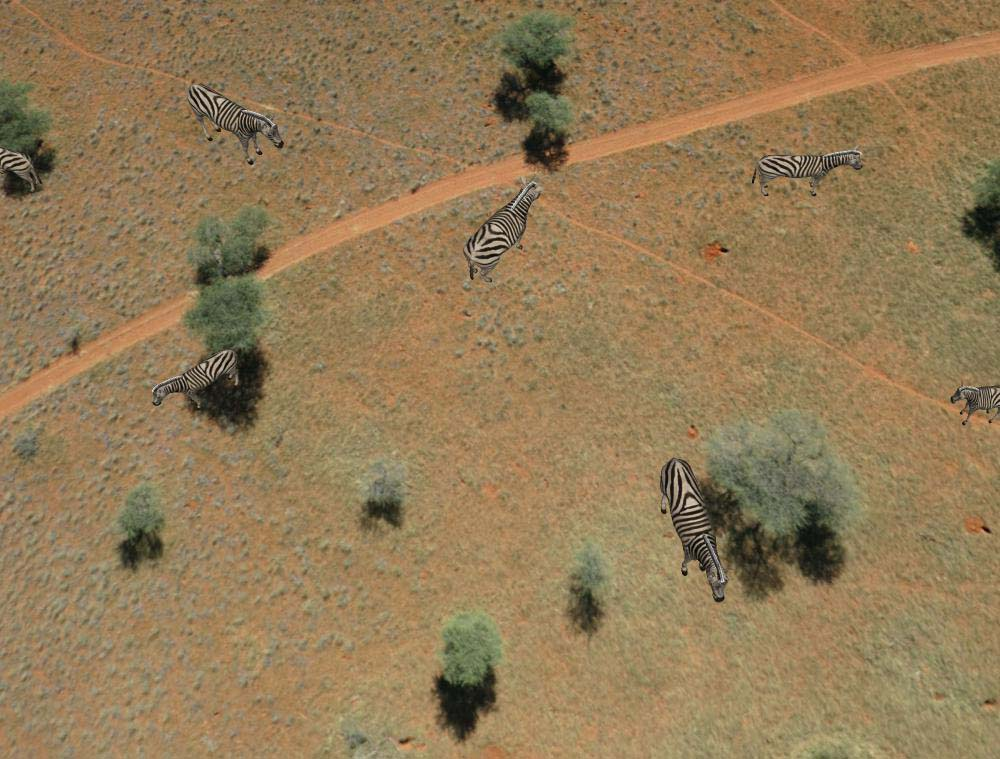zebra: (656, 446, 736, 607), (183, 69, 288, 167), (463, 175, 542, 288), (145, 346, 247, 412), (752, 146, 866, 204), (1, 148, 59, 192), (950, 380, 1000, 429)
